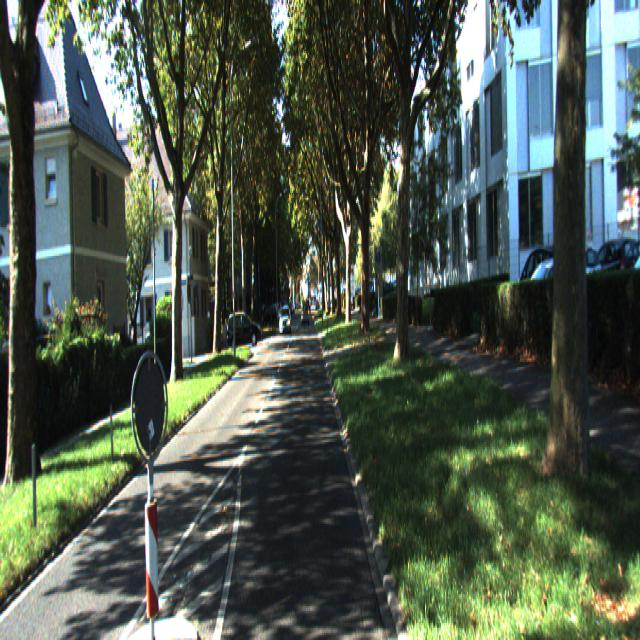Car: (226, 313, 262, 353), (278, 310, 292, 337)
